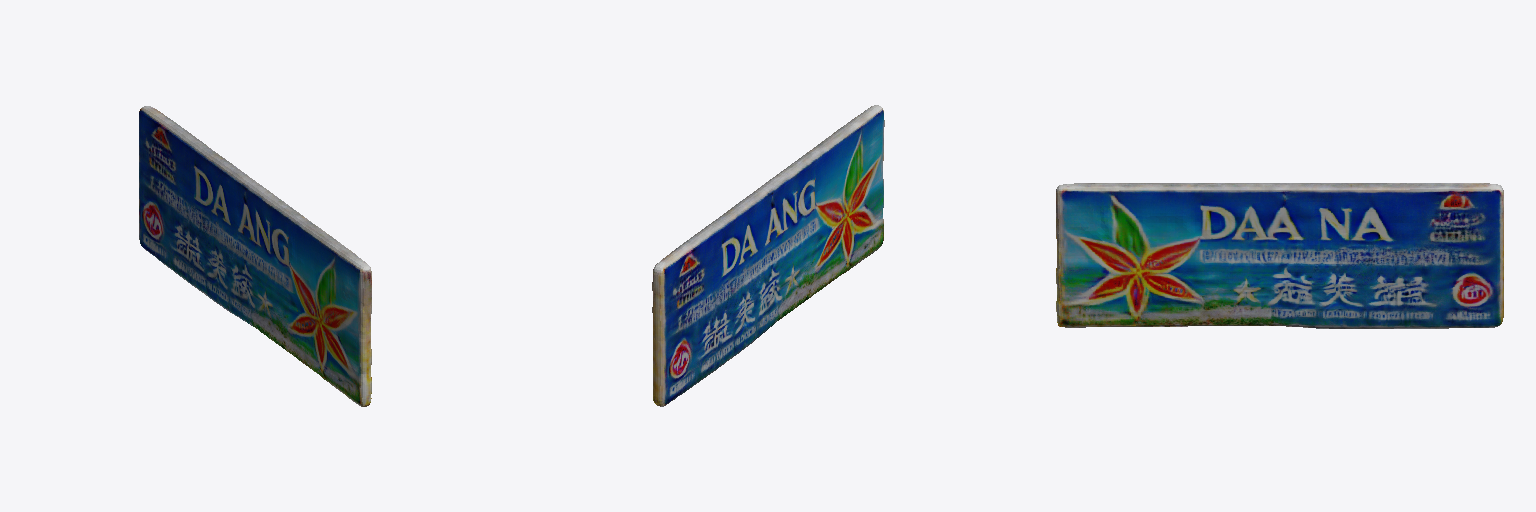
3 views of the same model, side by side, from view 1: azimuth 30°, elevation 25°; view 2: azimuth 150°, elevation 25°; view 3: azimuth 270°, elevation 25° (orthographic).
Parts seen in each view (by area): view 1: mesh; view 2: mesh; view 3: mesh.
Boxes of the visible parts, box(x1,y1,x2,y2) form: mesh: box(139, 106, 371, 406); mesh: box(652, 105, 884, 406); mesh: box(1056, 183, 1503, 328).
Bounding box in the file's own units: 0.043 × 0.3551 × 0.9999.
Materials: 1 (1 with a texture image).